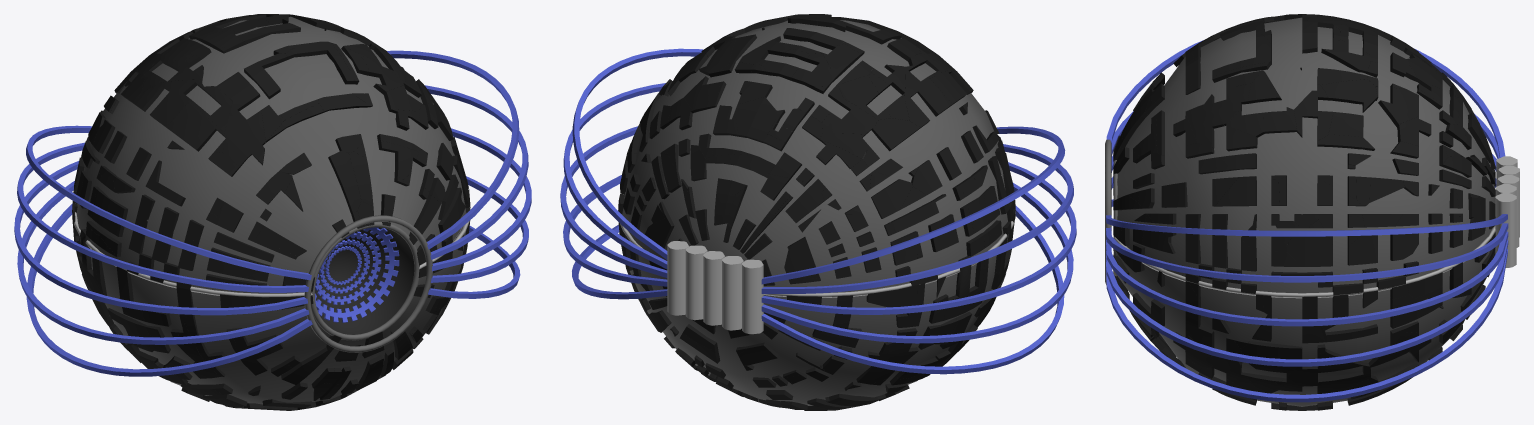
The model's file is Deathstar 60%.fbx.
3 views of the same model, side by side, from view 1: azimuth 30°, elevation 25°; view 2: azimuth 150°, elevation 25°; view 3: azimuth 270°, elevation 25° (orthographic).
Parts seen in each view (by area): view 1: pSphere28, pCube11, pSphere8, pCylinder17, pTorus3, pSphere29_cell.094, pTorus1, pSphere29_cell.297, pSphere29_cell.760, pSphere29_cell.599, pTorus2, pSphere29_cell.674 (+27 smaller); view 2: pSphere28, pCube11, pCylinder19, pSphere29_cell.297, pSphere29_cell.417, pSphere29_cell.136, pSphere29_cell.226, pSphere29_cell.314, pTorus2, pSphere29_cell.574, pSphere29_cell.135, pSphere29_cell.038 (+26 smaller); view 3: pSphere28, pCube11, pCylinder19, pTorus2, pSphere29_cell.236, pSphere29_cell.096, pSphere29_cell.670, pSphere29_cell.302, pSphere29_cell.754, pSphere29_cell.194, pSphere29_cell.327, pSphere29_cell.024 (+51 smaller).
Boxes of the visible parts, <box> form: pSphere28: <box>76,16,466,404</box>; pCube11: <box>14,50,531,376</box>; pSphere8: <box>315,227,414,334</box>; pCylinder17: <box>314,227,399,322</box>; pTorus3: <box>304,215,432,352</box>; pSphere29_cell.094: <box>223,101,265,167</box>; pTorus1: <box>311,221,419,340</box>; pSphere29_cell.297: <box>135,79,203,128</box>; pSphere29_cell.760: <box>167,102,224,150</box>; pSphere29_cell.599: <box>141,238,199,307</box>; pTorus2: <box>74,207,469,297</box>; pSphere29_cell.674: <box>328,150,361,213</box>; pSphere28: <box>622,20,1008,405</box>; pCube11: <box>560,48,1076,374</box>; pCylinder19: <box>667,241,763,334</box>; pSphere29_cell.297: <box>904,65,952,128</box>; pSphere29_cell.417: <box>735,97,776,142</box>; pSphere29_cell.136: <box>822,99,877,135</box>; pSphere29_cell.226: <box>838,75,890,119</box>; pSphere29_cell.314: <box>866,266,917,307</box>; pTorus2: <box>620,194,1015,297</box>; pSphere29_cell.574: <box>871,179,912,218</box>; pSphere29_cell.135: <box>872,118,919,151</box>; pSphere29_cell.038: <box>956,239,984,298</box>; pSphere28: <box>1117,17,1495,406</box>; pCube11: <box>1106,40,1508,402</box>; pCylinder19: <box>1495,156,1519,267</box>; pTorus2: <box>1113,186,1495,298</box>; pSphere29_cell.236: <box>1317,349,1370,393</box>; pSphere29_cell.096: <box>1320,79,1377,112</box>; pSphere29_cell.670: <box>1318,278,1377,330</box>; pSphere29_cell.302: <box>1294,84,1333,142</box>; pSphere29_cell.754: <box>1378,87,1418,126</box>; pSphere29_cell.194: <box>1204,83,1251,125</box>; pSphere29_cell.327: <box>1212,237,1249,289</box>; pSphere29_cell.024: <box>1185,104,1224,148</box>.
Size of the model in its own units: 1457 by 1082 by 1131.
